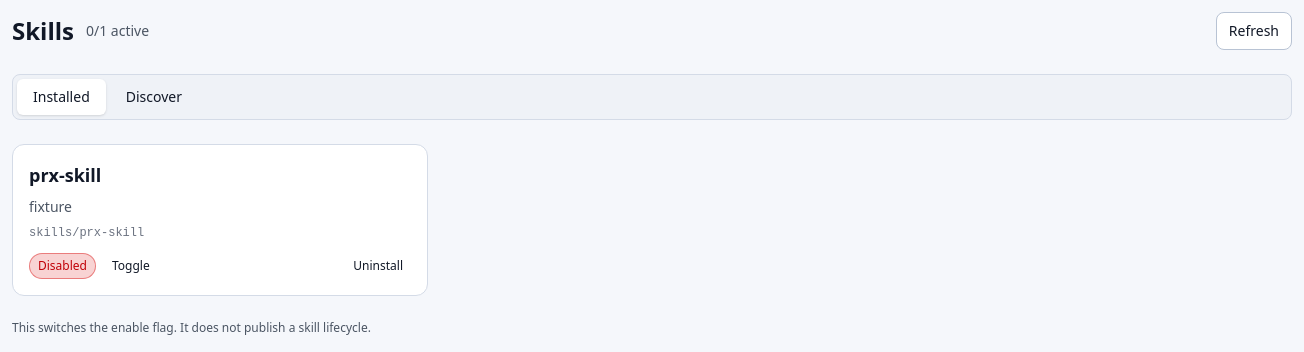
Test: shows ClawHub as unavailable and does not search
Expected: the button "Installed" is shown, x1=17 y1=79 x2=106 y2=115
Click the button "Discover" at (154,97), box x1=110 y1=79 x2=198 y2=115
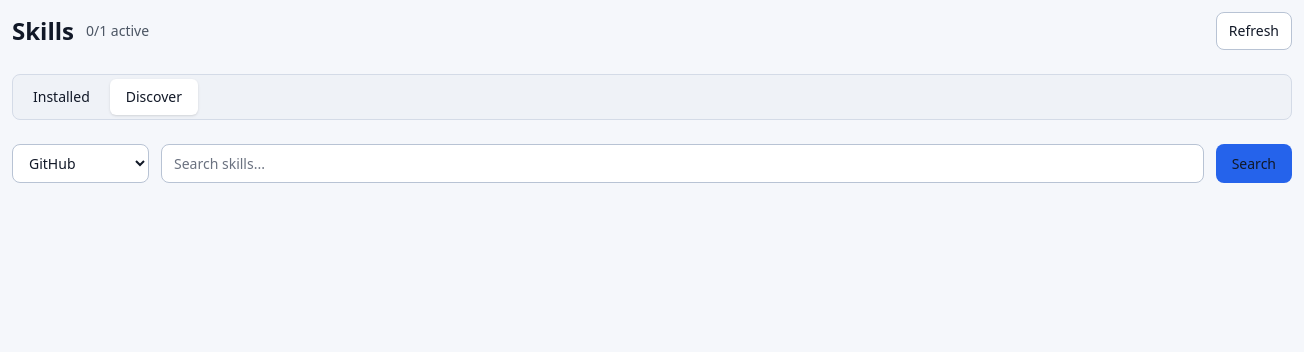
Select "ClawHub" in the dropdown at (80,164), box x1=12 y1=144 x2=149 y2=183
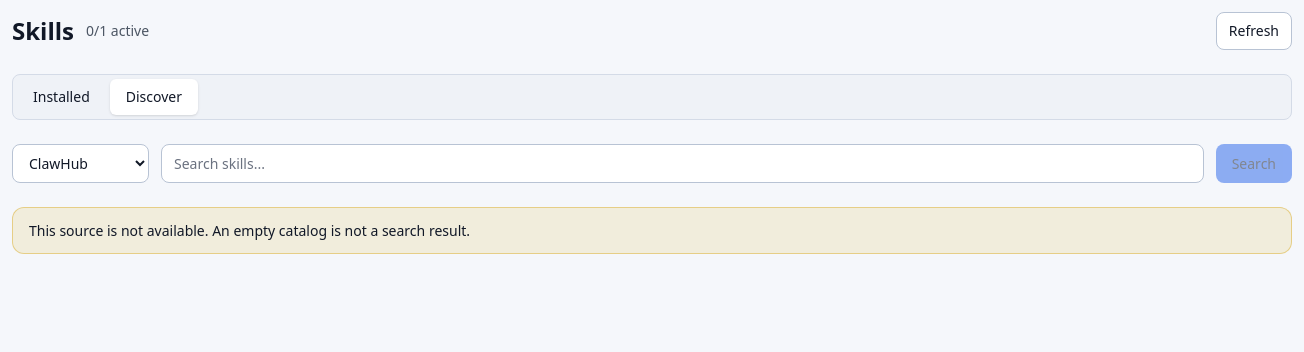
Expected: the text "empty catalog is not a search result" is shown, x1=29 y1=221 x2=470 y2=240
